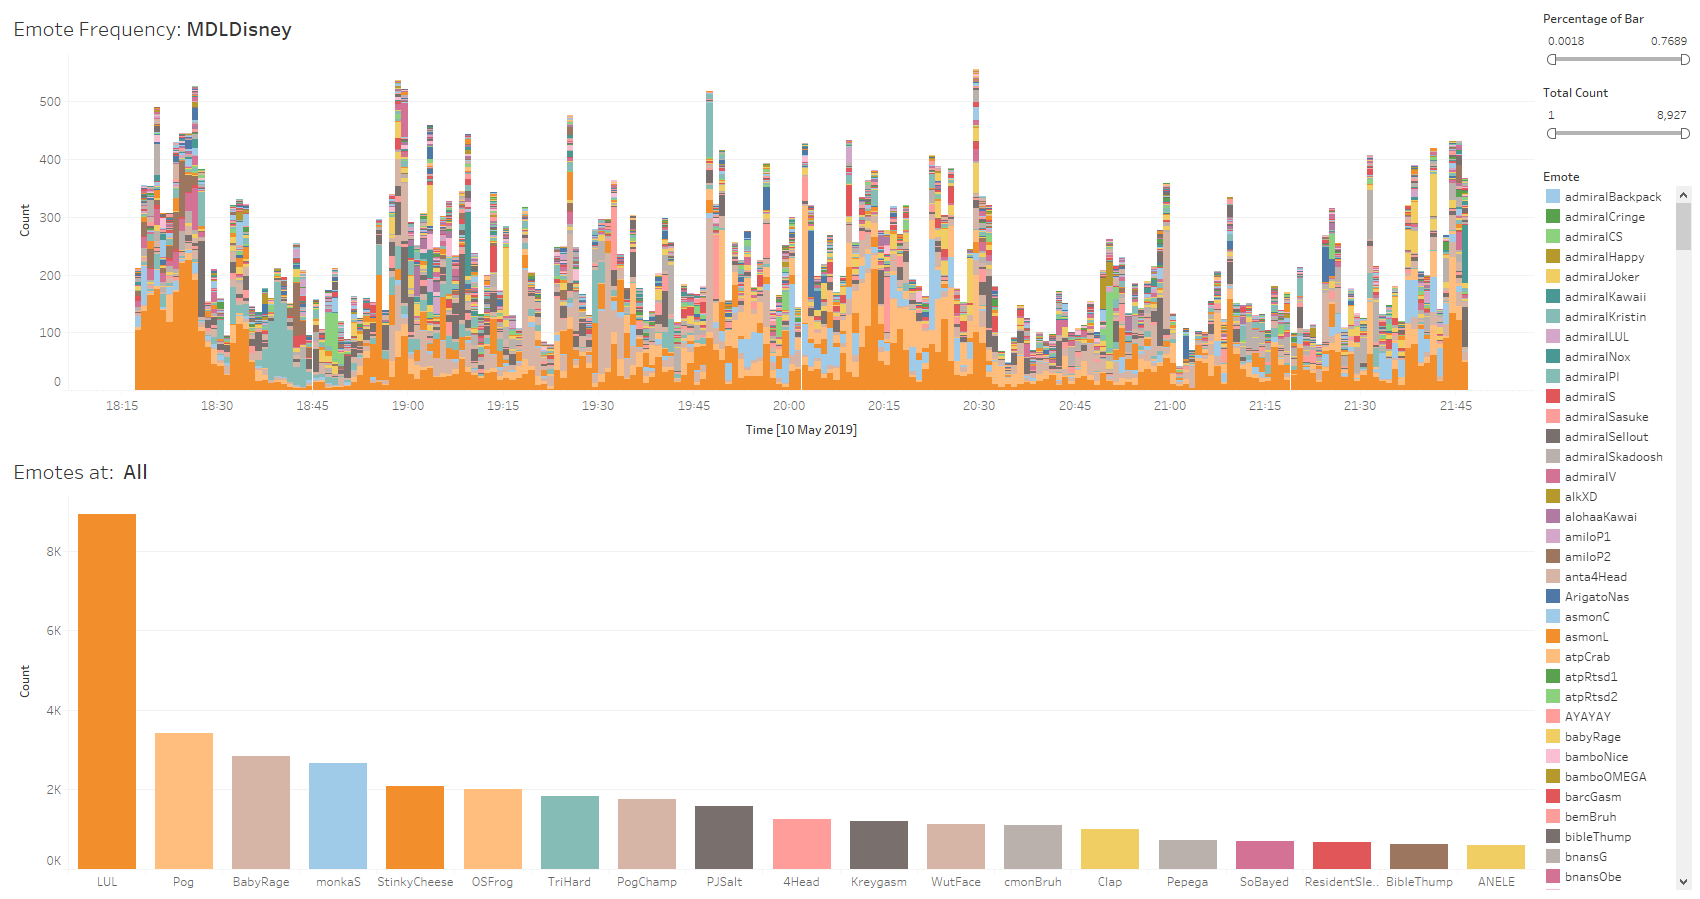

The page's visual inventory and layout, read from the dashboard file:
{"tool":"tableau","page":{"name":"Dashboard 1","canvas":[1000,1000],"units":"permille","ordinal":0},"visuals":[{"type":"worksheet","title":"Stacked Bar","mark":"Bar","rows":["count"],"cols":["timestamp"],"box":[4.7,8.8,897.4,490.1]},{"type":"filter","title":"Stacked Bar","param":"[federated.0wjc1m911hyxwt1czhut31dv7hgh].[none:Calculation_477663090371919884:qk","box":[902.1,8.8,93.2,81.9]},{"type":"filter","title":"Stacked Bar","param":"[federated.0wjc1m911hyxwt1czhut31dv7hgh].[sum:Calculation_477663090368802827:qk]","box":[902.1,90.7,93.2,92.9]},{"type":"legend","title":"Stacked Bar","param":"[federated.0wjc1m911hyxwt1czhut31dv7hgh].[none:emote:nk]","box":[902.1,183.6,93.2,807.5]},{"type":"worksheet","title":"Bar Single Timestamp","mark":"Automatic","rows":["count"],"cols":["emote"],"box":[4.7,499,897.4,492.2]}]}

Visuals, with their boxes on the dashboard's canvas, which has no fixed pixel size, in thousandths of its width and height (x1, y1, x2, y2). These are canvas units, not pixel positions in the 1700x899 screenshot, which may show the page scaled, cropped or inside an application window:
"Stacked Bar" worksheet (Bar marks): BBox(5, 9, 902, 499)
"Stacked Bar" filter: BBox(902, 9, 995, 91)
"Stacked Bar" filter: BBox(902, 91, 995, 184)
"Stacked Bar" legend: BBox(902, 184, 995, 991)
"Bar Single Timestamp" worksheet: BBox(5, 499, 902, 991)
